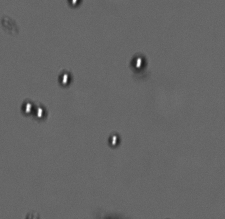Living Cell: (128, 52, 148, 73), (57, 69, 74, 88), (106, 132, 121, 149), (19, 99, 33, 115), (33, 104, 46, 121), (64, 1, 83, 8)
